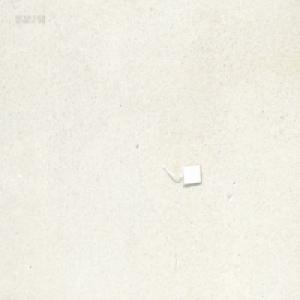LuggageTag: (161, 161, 201, 188)
